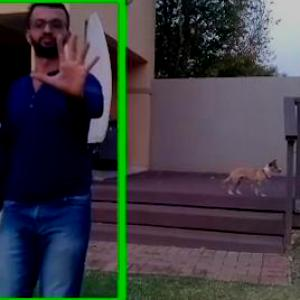follow_hand: (31, 28, 103, 96)
